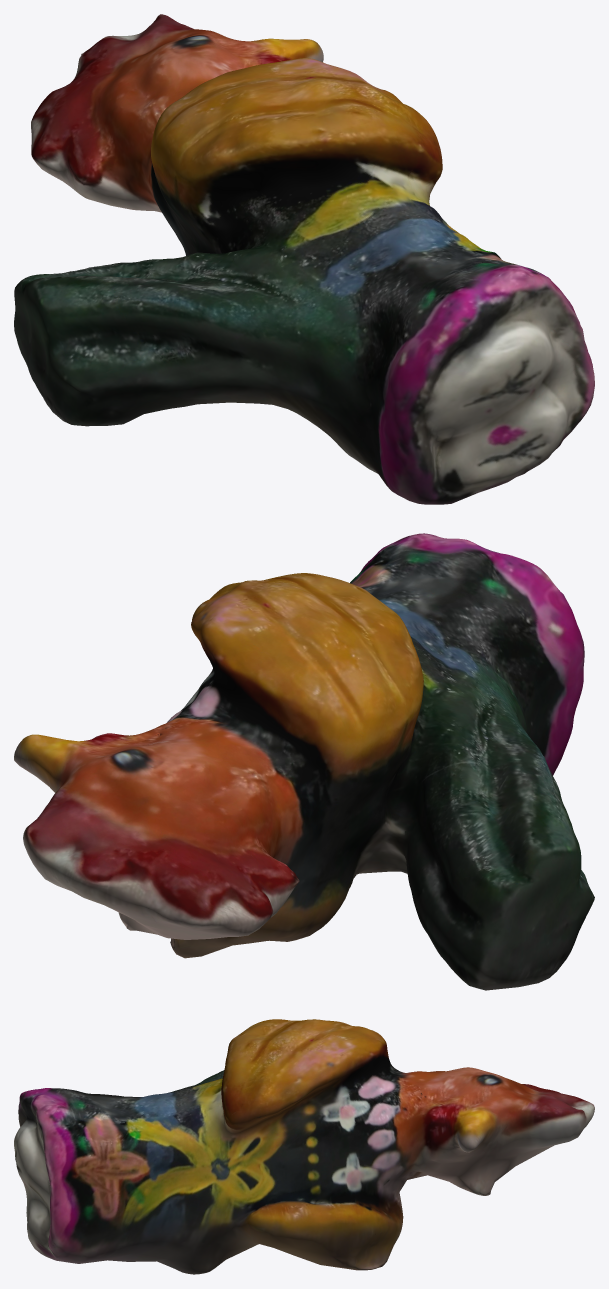
The picture shows the model from 3 angles, top to bottom: view 1: azimuth 30°, elevation 25°; view 2: azimuth 150°, elevation 25°; view 3: azimuth 270°, elevation 25°; orthographic projection. The views are drawn at different scales.
Size of the model in its own units: 0.396 by 0.2943 by 0.6819.
Materials: 1 (1 with a texture image).
